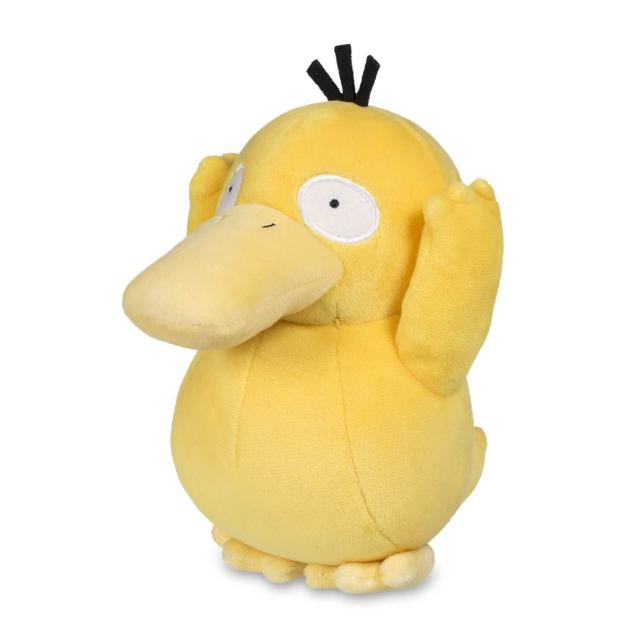Psyduck: (120, 89, 508, 596)
